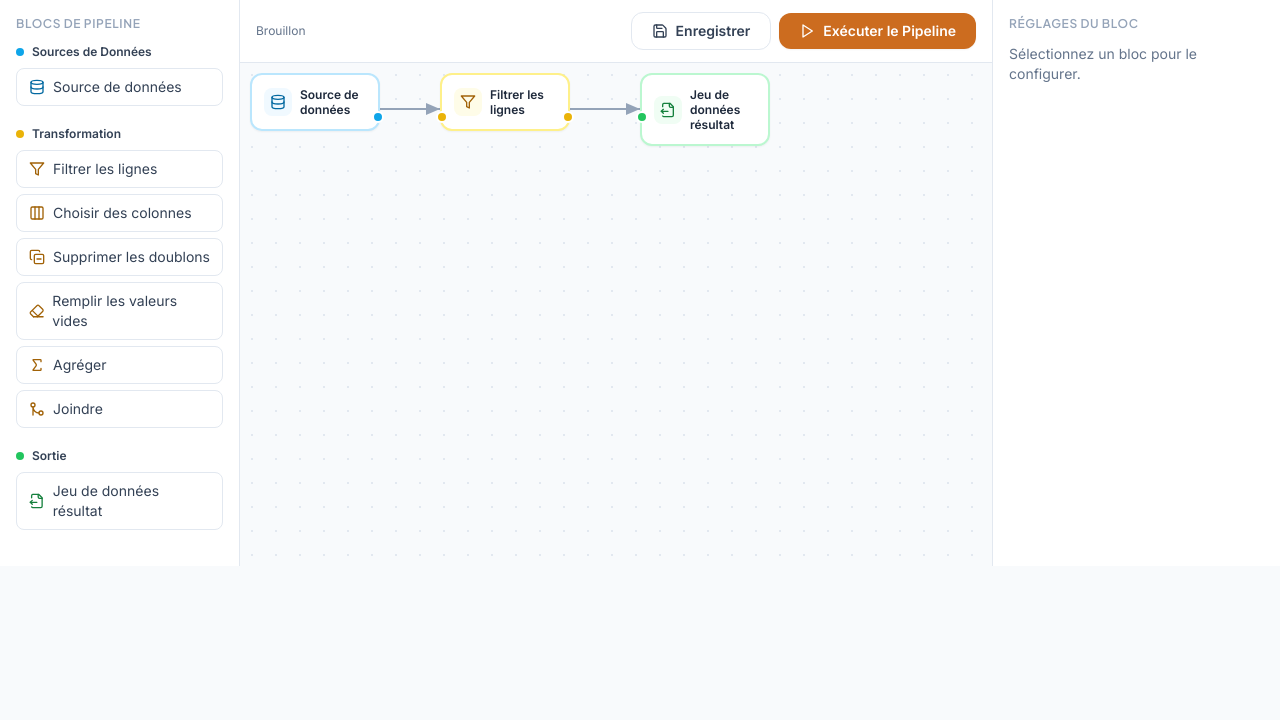
PipelineTab › charge le pipeline enregistré, l'enregistre puis demande au serveur de l'exécuter (par identifiant, sans graphe)
This screenshot has width=1280, height=720.
Click the button "Exécuter le Pipeline".
click(878, 31)  # box [779,13,976,49]
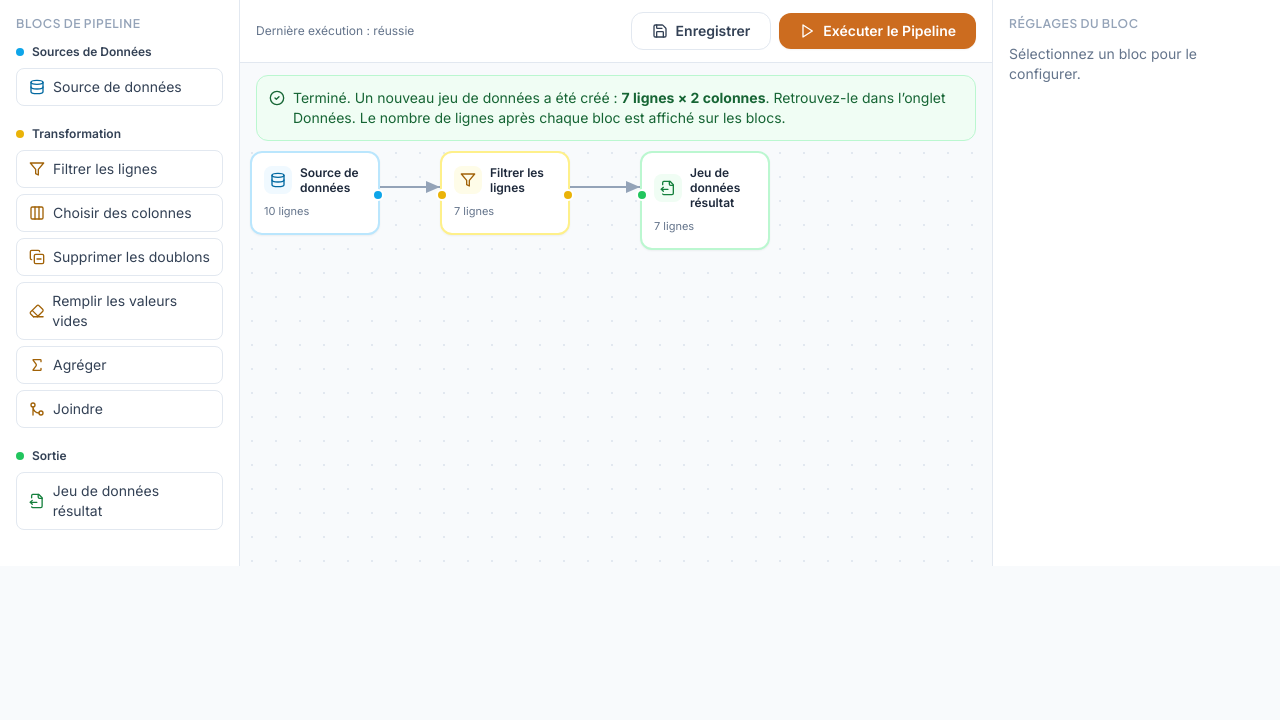
Check: the text "7 lignes × 2 colonnes" is shown, box [622,89,766,106]
